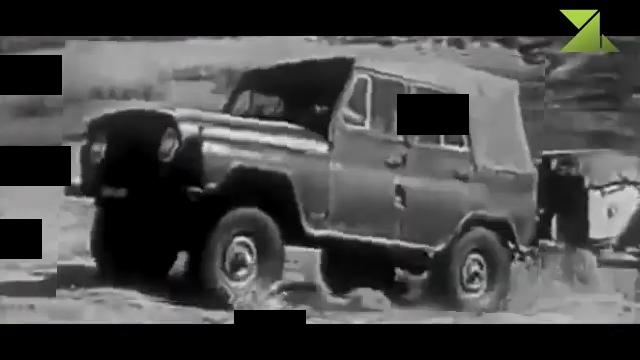MIL_HMMWV: (59, 44, 544, 310)
